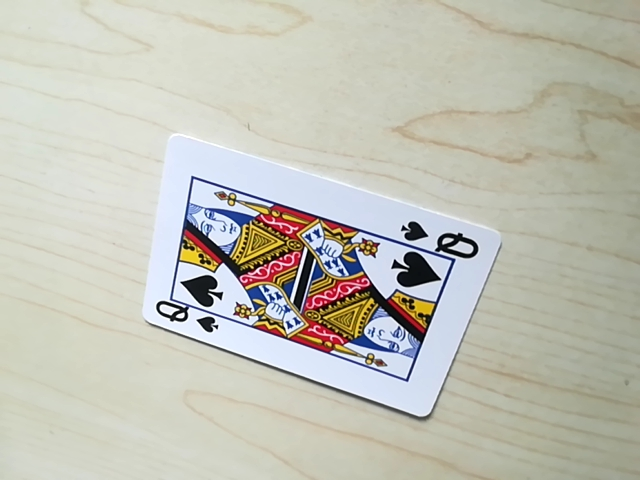ht q: (399, 221, 487, 259), (152, 300, 219, 336)
